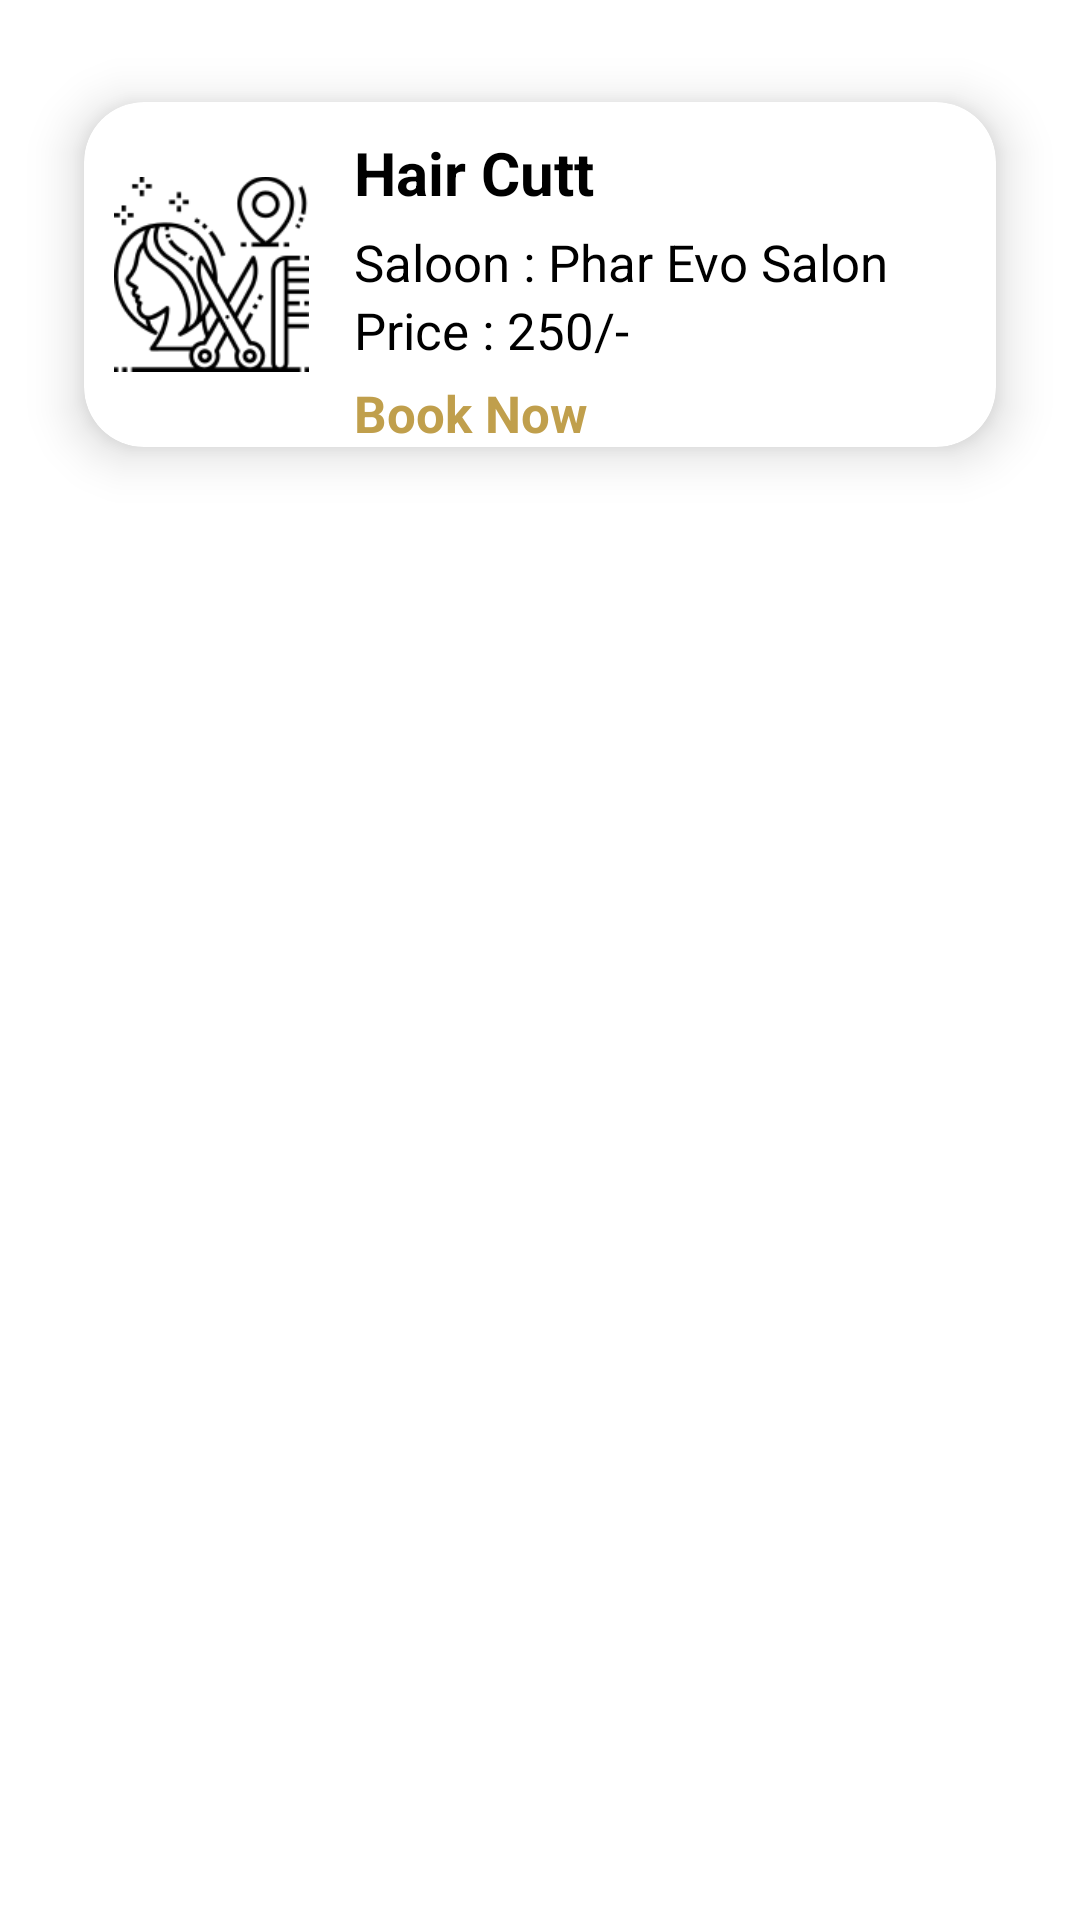

Named icons in this screenshot (1080 x 1920) and their bounding boxes, (x1, y1, x2, y2):
beauty: (114, 177, 309, 372)
